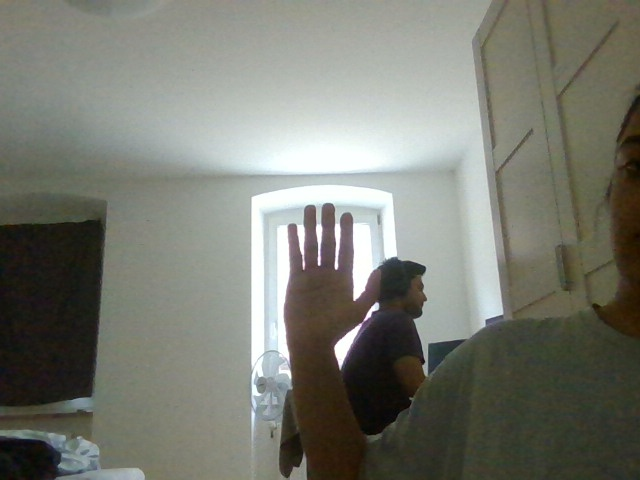open_hand: (267, 193, 392, 351)
